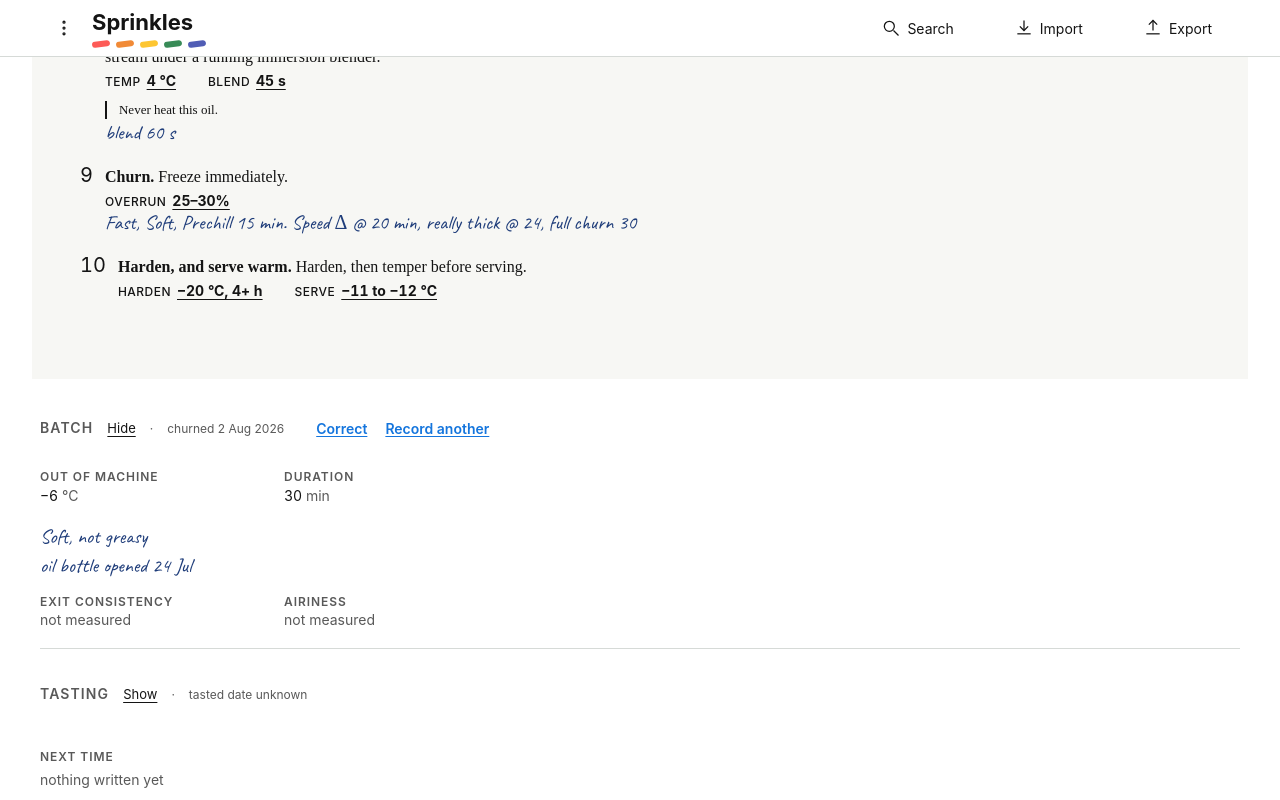
Test case: Import is refused while a pen is open (261011-dz2, decide-import-refreshes-open-recipe-pens = refuse) › Correct pen (the Tasting section opens inside it): Import is refused
(page scrolled)
Click the button "Correct".
click(342, 429)  # box [316,417,367,441]
(page scrolled)
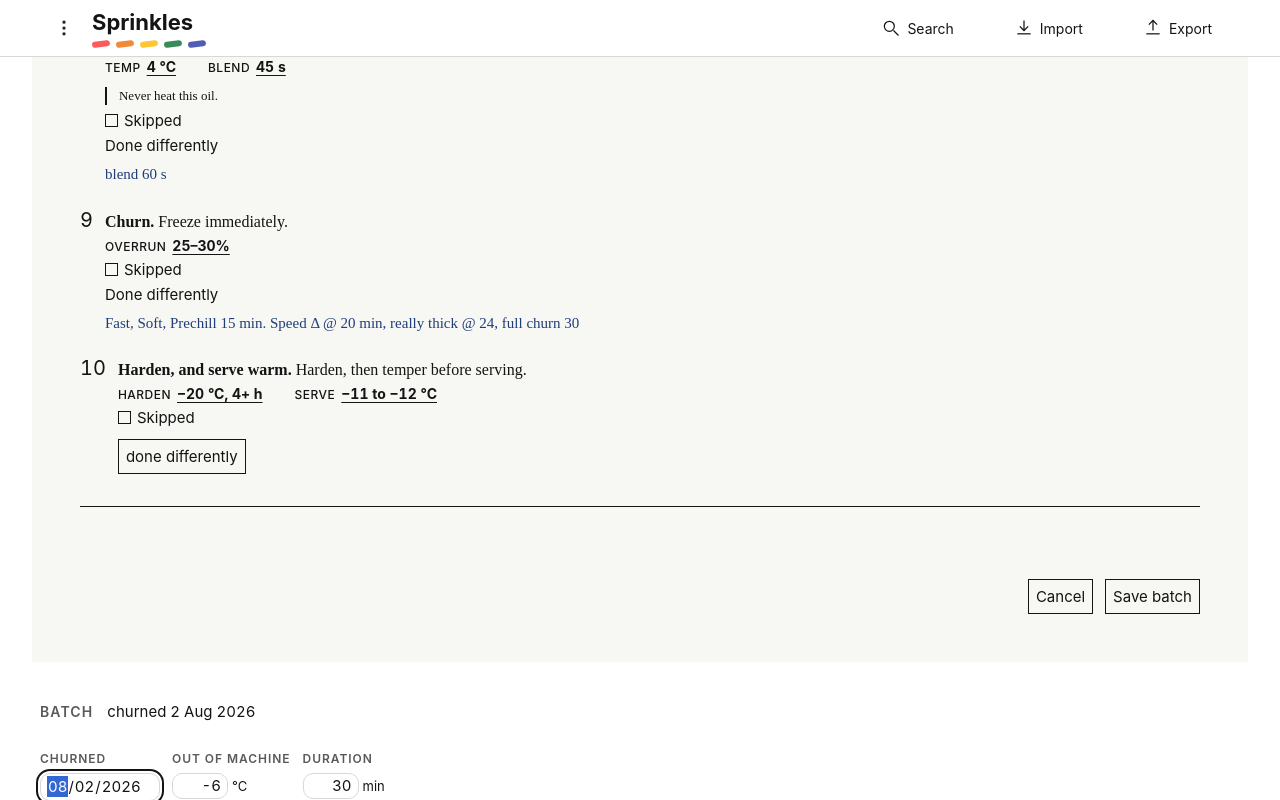
Click the button "Import".
click(1048, 28)  # box [994,6,1103,50]
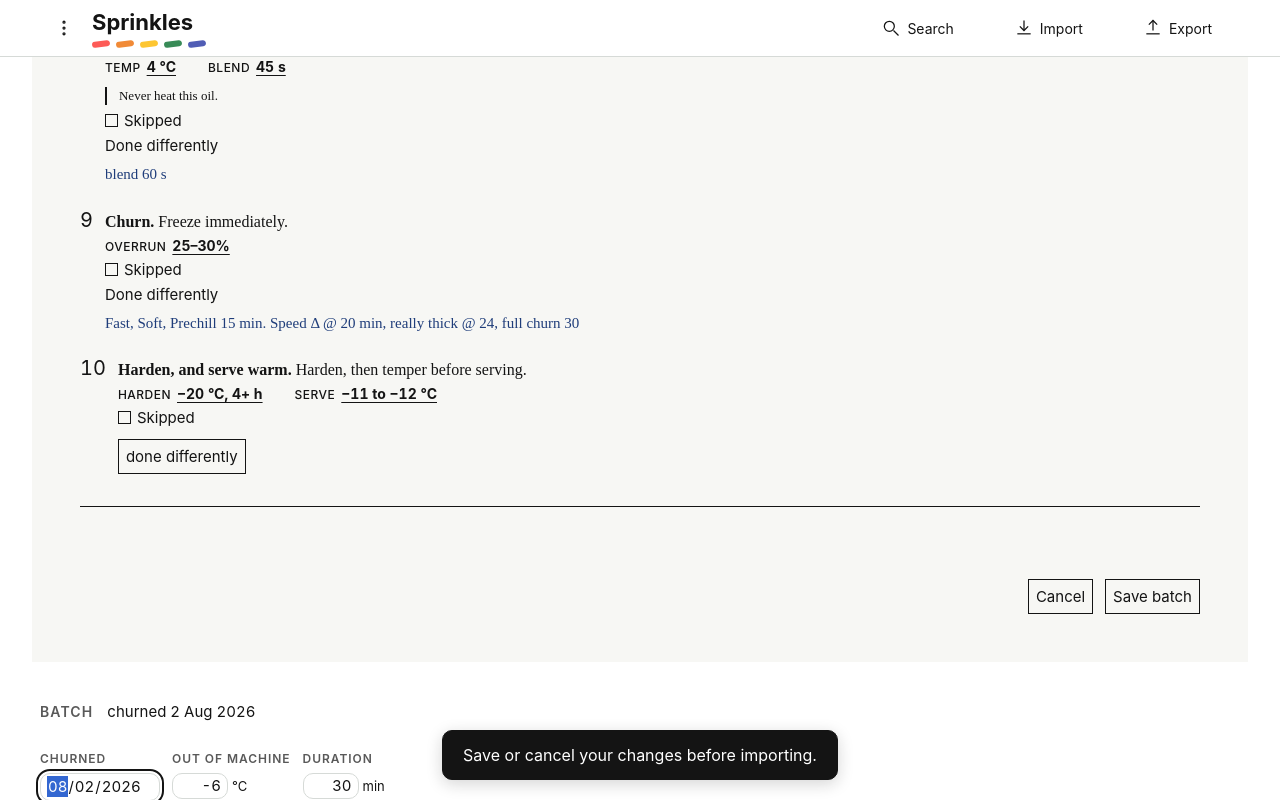
Now the message "Save or cancel your changes before importing." is shown, box [442,730,838,780]
